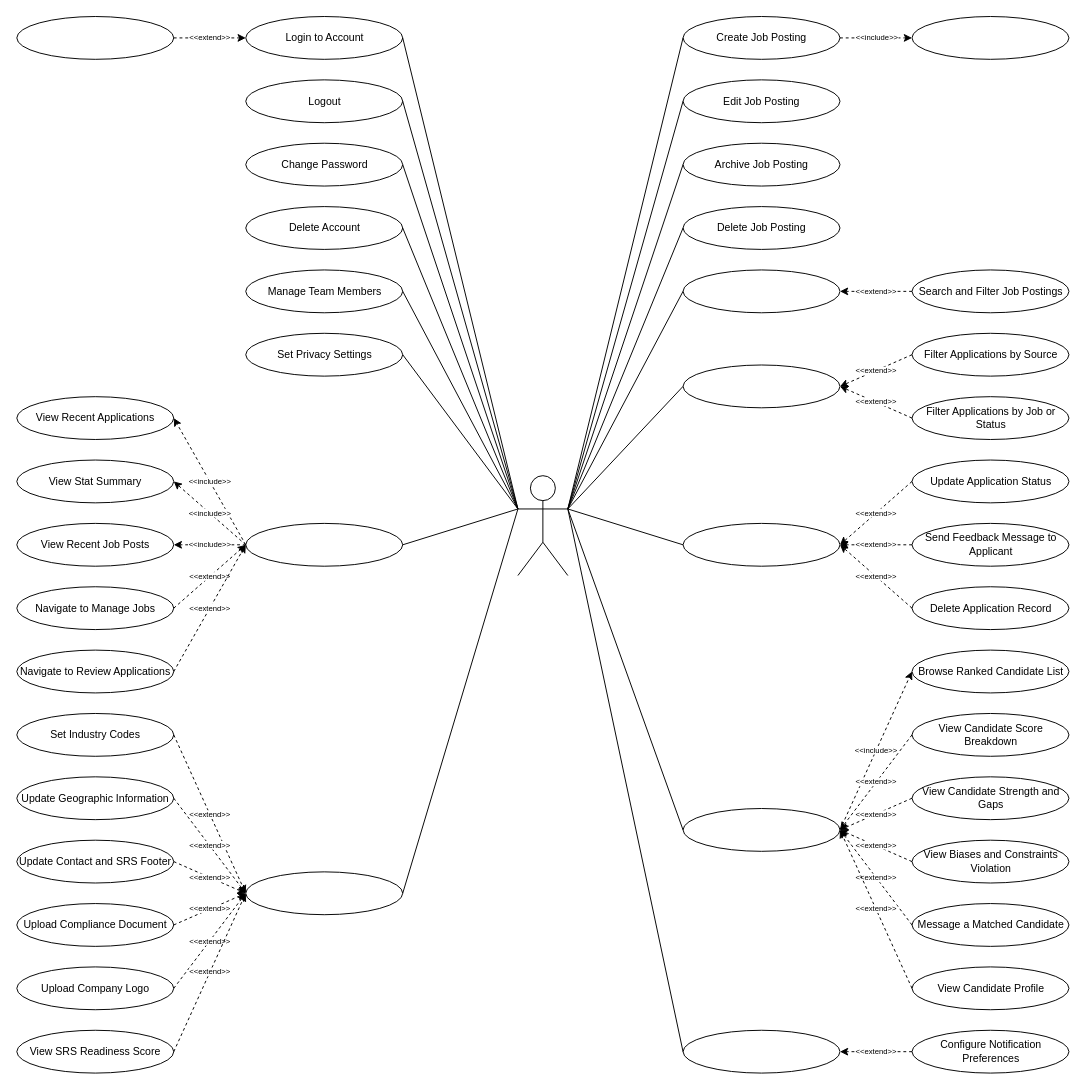
Image size: 1086x1091. Some labels were removed from this diagram. The shapes that lost their labels are listed below. From the top down, each one's centre as x and y in pixels, then its label:
At (x=95, y=37): "Reset Password".
At (x=990, y=37): "Submit Job for Admin Review".
At (x=761, y=291): "View Job Status".
At (x=761, y=386): "View All Applications".
At (x=324, y=544): "View Dashboard Overview".
At (x=542, y=525): "Employer (Authenticated User)".
At (x=761, y=544): "View Application Details".
At (x=761, y=829): "View AI Match Report for a Job".
At (x=324, y=893): "Edit Establishment Details".
At (x=761, y=1051): "View Notifications".
